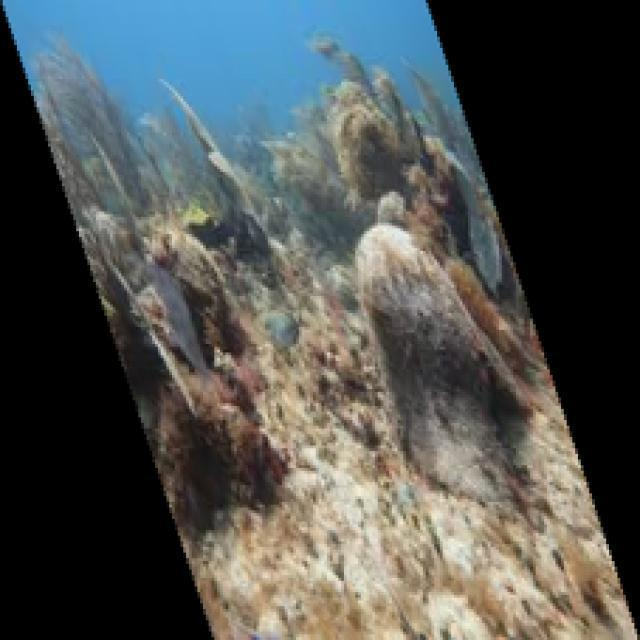Dead Coral: (125, 150, 288, 541), (321, 178, 513, 493)
